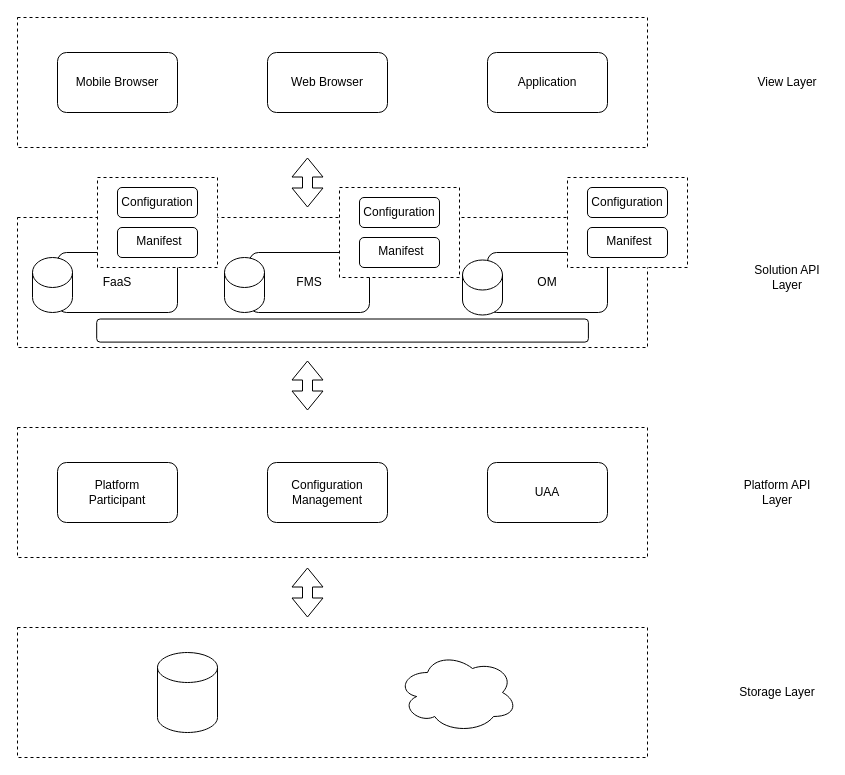
Some shapes in this 845 by 775 pixel diagram are drawn without their labels. The centre of each missing label's shape, as x and y in pixels:
Cloudstore: [457,692]
Datastore: [187,692]
Shared Library: [342,330]
